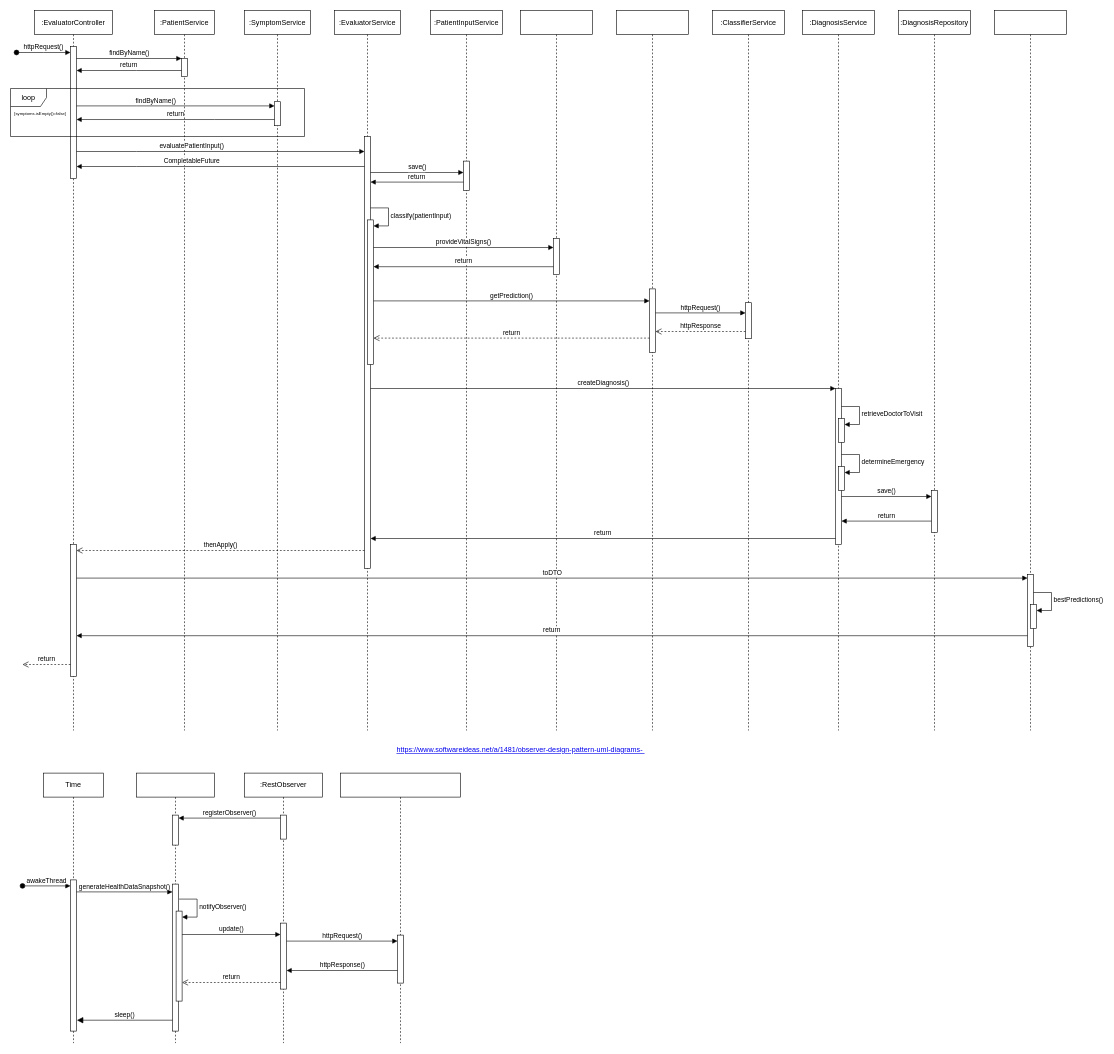
The diagram is 1114 pixels wide and 1054 high, and some of its shapes have lost their labels. Each missing label, with the box of its shape:
:ClassifierClient: (616, 10, 688, 730)
:DiagnosisMapper: (994, 10, 1066, 730)
:HealthDataService: (136, 772, 214, 1043)
:VitalSignsObserverService: (340, 772, 460, 1043)
:VitalSignsProvider: (520, 10, 592, 730)
